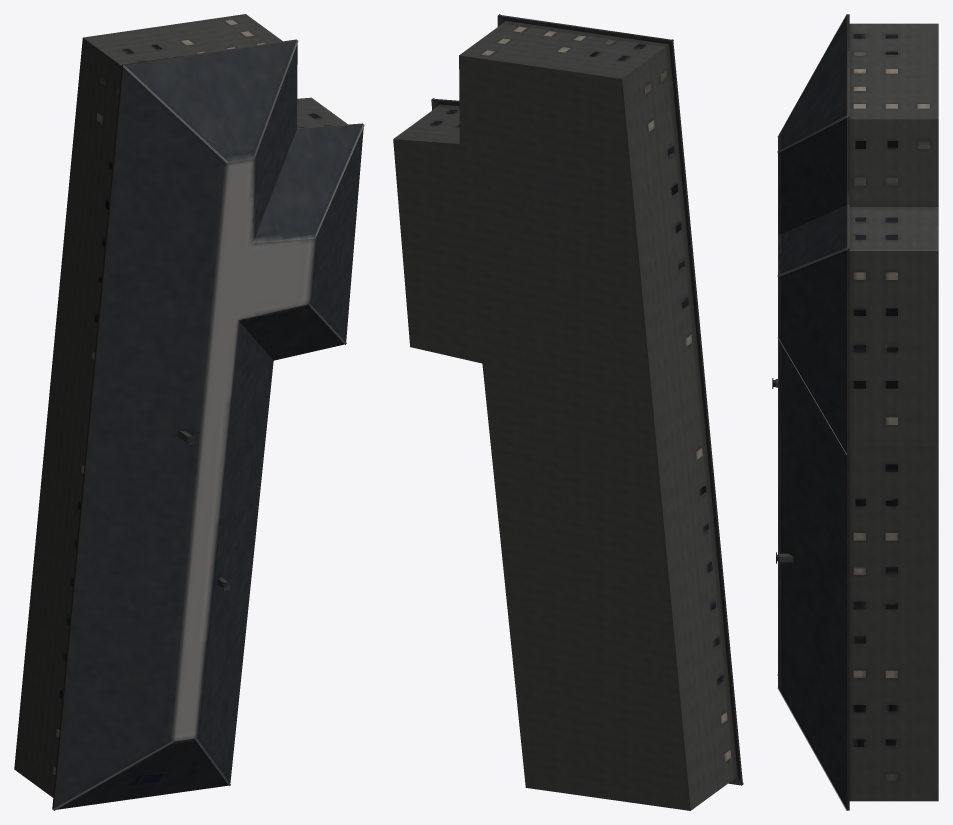
The model's file is house_b0015.obj.
3 views of the same model, side by side, from view 1: azimuth 30°, elevation 25°; view 2: azimuth 150°, elevation 25°; view 3: azimuth 270°, elevation 25° (orthographic).
Visible parts, largest first — view 1: house_b0015; view 2: house_b0015; view 3: house_b0015.
Part boxes in pixels (x1=…): house_b0015: x1=14, y1=14, x2=364, y2=810; house_b0015: x1=393, y1=14, x2=743, y2=810; house_b0015: x1=772, y1=14, x2=938, y2=810.
Size of the model in its own units: 33.77 by 77.38 by 15.62.
Materials: 1 (1 with a texture image).
